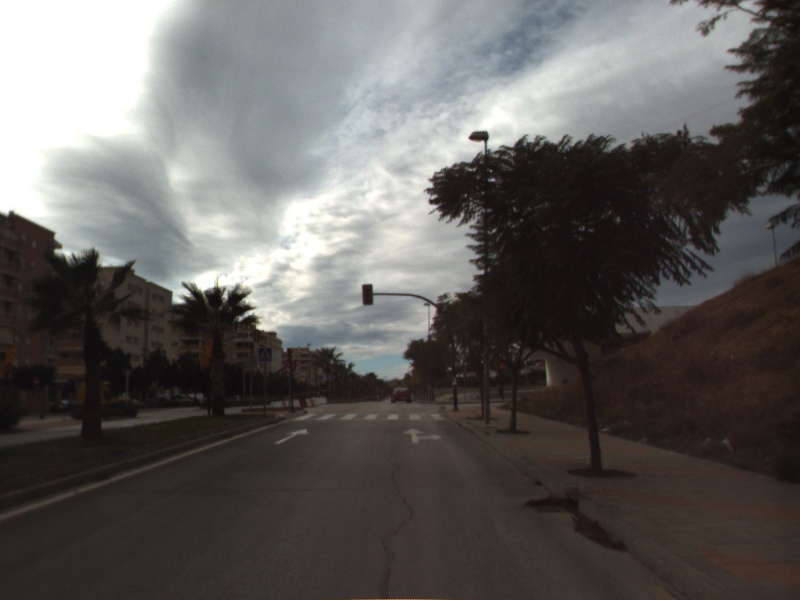STRAIGHT: (273, 426, 310, 446)
STRAIGHT_RIGHT: (401, 426, 444, 445)
